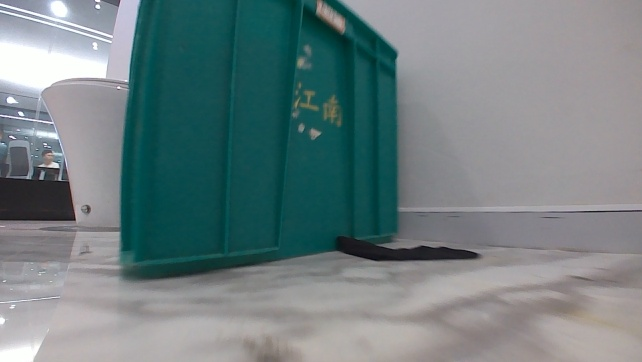socks: (332, 232, 480, 264)
toilet: (40, 75, 127, 228)
